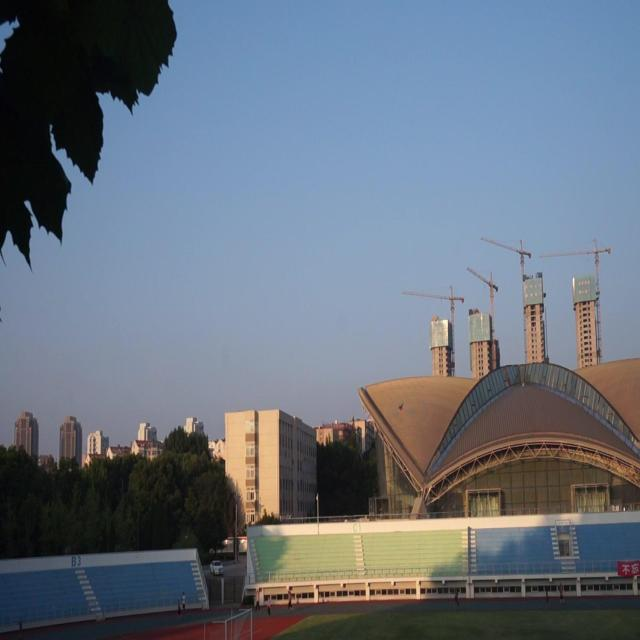drone: (397, 398, 405, 412)
